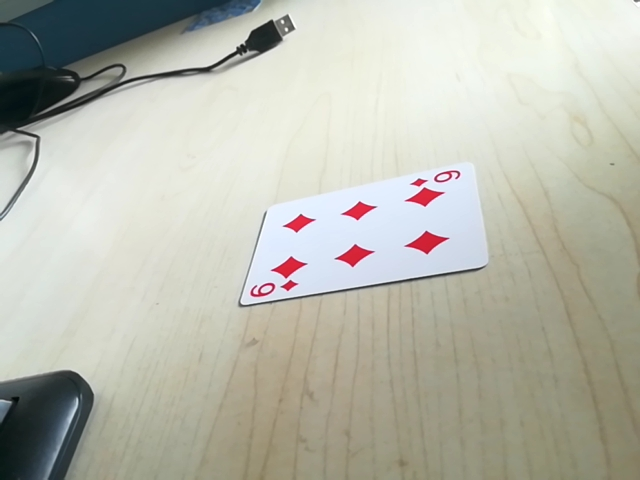fk 6: (244, 276, 302, 304), (410, 165, 470, 191)
